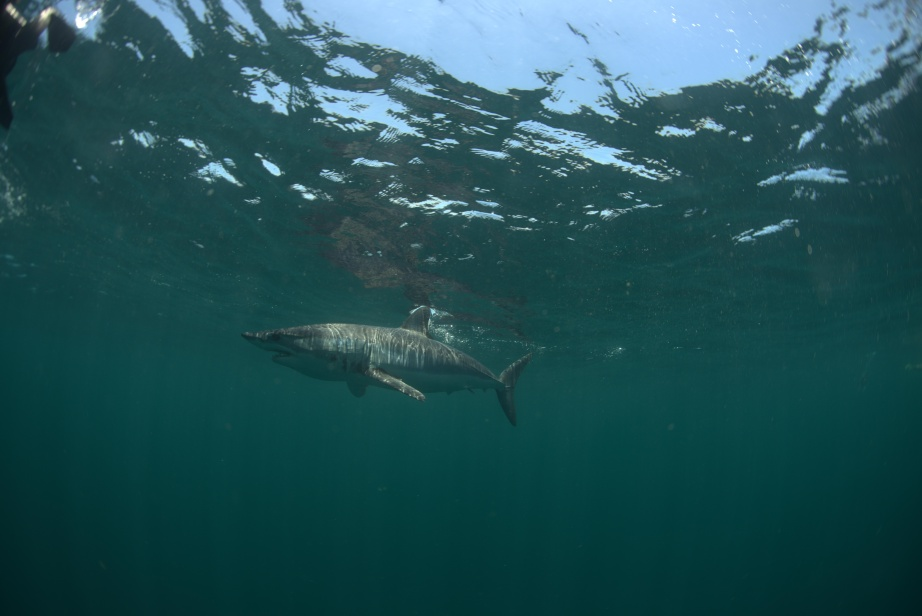Mako: (217, 300, 551, 444)
